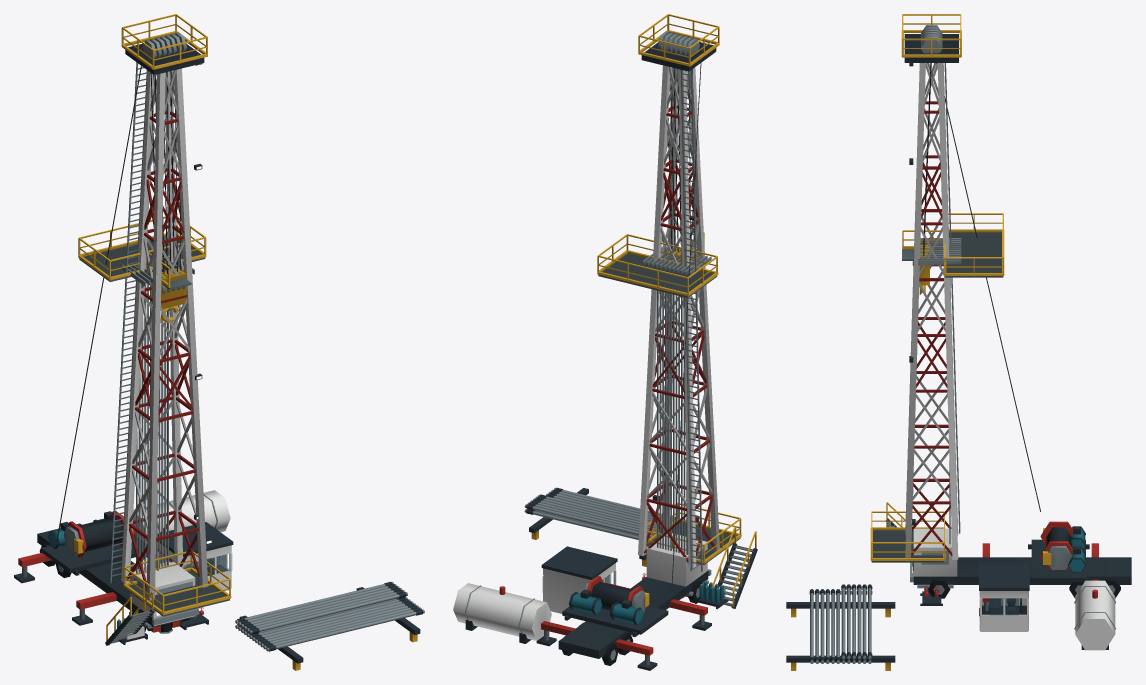
File: workover_truck_lodl.glb
The picture shows the model from 3 angles, left to right: view 1: azimuth 30°, elevation 25°; view 2: azimuth 150°, elevation 25°; view 3: azimuth 270°, elevation 25°; orthographic projection. The views are drawn at different scales.
Parts seen in each view (by area): view 1: derrick_surface_white, pipe_rack_surface_steel, derrick_surface_red, rod_rack_surface_steel, ladder_surface_steel, drill_line_surface_dark, handrails_surface_yellow, crown_block_surface_yellow, racking_board_surface_yellow, fuel_tank_surface_white, drawworks_surface_dark, carrier_surface_dark (+11 smaller); view 2: derrick_surface_white, rod_rack_surface_steel, derrick_surface_red, fuel_tank_surface_white, ladder_surface_steel, pipe_rack_surface_steel, carrier_surface_dark, racking_board_surface_yellow, racking_board_surface_deck, carrier_surface_white, drill_line_surface_dark, doghouse_surface_dark (+16 smaller); view 3: derrick_surface_white, pipe_rack_surface_steel, derrick_surface_red, carrier_surface_dark, fuel_tank_surface_white, doghouse_surface_dark, racking_board_surface_deck, pipe_rack_surface_dark, carrier_surface_white, doghouse_surface_white, drawworks_surface_dark, drill_floor_surface_deck (+11 smaller).
Boxes of the visible parts, left/top/right/bottom form: derrick_surface_white: left=121, top=68, right=208, bottom=600; pipe_rack_surface_steel: left=235, top=582, right=424, bottom=651; derrick_surface_red: left=126, top=111, right=199, bottom=590; rod_rack_surface_steel: left=136, top=280, right=168, bottom=573; ladder_surface_steel: left=110, top=62, right=147, bottom=583; drill_line_surface_dark: left=56, top=66, right=181, bottom=541; handrails_surface_yellow: left=123, top=551, right=231, bottom=615; crown_block_surface_yellow: left=121, top=14, right=207, bottom=69; racking_board_surface_yellow: left=78, top=216, right=206, bottom=280; fuel_tank_surface_white: left=133, top=490, right=230, bottom=543; drawworks_surface_dark: left=41, top=534, right=147, bottom=575; carrier_surface_dark: left=37, top=523, right=195, bottom=627; derrick_surface_white: left=638, top=65, right=719, bottom=568; rod_rack_surface_steel: left=657, top=290, right=687, bottom=554; derrick_surface_red: left=644, top=105, right=715, bottom=562; fuel_tank_surface_white: left=453, top=583, right=551, bottom=640; ladder_surface_steel: left=680, top=69, right=702, bottom=571; pipe_rack_surface_steel: left=524, top=488, right=703, bottom=539; carrier_surface_dark: left=558, top=571, right=708, bottom=658; racking_board_surface_yellow: left=597, top=234, right=718, bottom=296; racking_board_surface_deck: left=598, top=253, right=717, bottom=297; carrier_surface_white: left=646, top=533, right=707, bottom=586; drill_line_surface_dark: left=668, top=63, right=701, bottom=591; doghouse_surface_dark: left=541, top=546, right=617, bottom=579; derrick_surface_white: left=905, top=63, right=958, bottom=559; pipe_rack_surface_steel: left=810, top=584, right=871, bottom=663; derrick_surface_red: left=911, top=101, right=952, bottom=556; carrier_surface_dark: left=912, top=557, right=1131, bottom=584; fuel_tank_surface_white: left=1075, top=580, right=1115, bottom=650; doghouse_surface_dark: left=979, top=563, right=1029, bottom=614; racking_board_surface_deck: left=945, top=232, right=1003, bottom=277; pipe_rack_surface_dark: left=786, top=584, right=895, bottom=662; carrier_surface_white: left=913, top=528, right=957, bottom=576; doghouse_surface_white: left=979, top=591, right=1028, bottom=631; drawworks_surface_dark: left=1028, top=539, right=1089, bottom=582; drill_floor_surface_deck: left=871, top=530, right=944, bottom=562.
Bounding box in the file's own units: 15.3 × 34.25 × 19.
